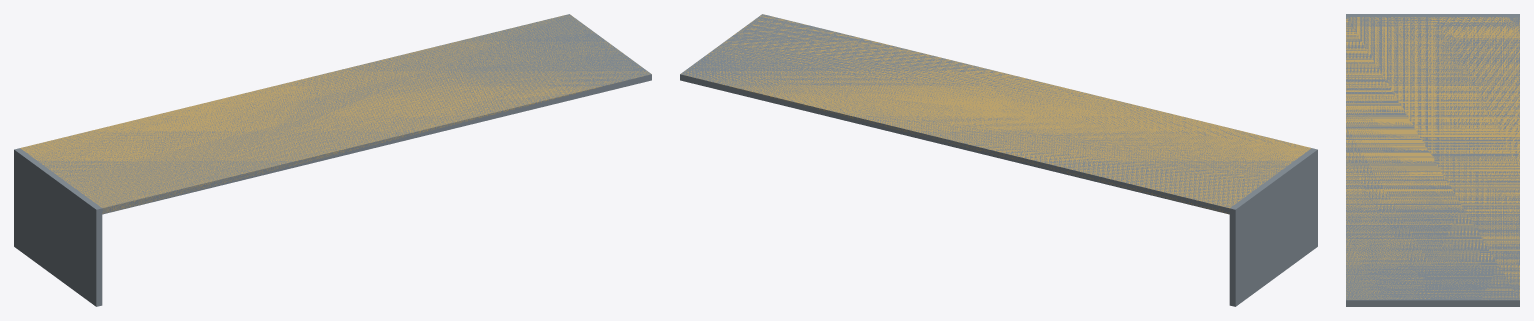
File: step_02.glb
The picture shows the model from 3 angles, left to right: view 1: azimuth 30°, elevation 25°; view 2: azimuth 150°, elevation 25°; view 3: azimuth 270°, elevation 25°; orthographic projection. The views are drawn at different scales.
Parts seen in each view (by area): view 1: part__belt webbing, buckle side, added__belt webbing, buckle side; view 2: part__belt webbing, buckle side, added__belt webbing, buckle side; view 3: part__belt webbing, buckle side, added__belt webbing, buckle side.
Part boxes in pixels (box(x1,y1,x2,y2)): part__belt webbing, buckle side: box(14, 14, 651, 306); added__belt webbing, buckle side: box(20, 14, 649, 213); part__belt webbing, buckle side: box(680, 14, 1317, 306); added__belt webbing, buckle side: box(681, 14, 1311, 214); part__belt webbing, buckle side: box(1346, 14, 1519, 306); added__belt webbing, buckle side: box(1346, 17, 1519, 299).
Size of the model in its own units: 187 by 31.27 by 48.
